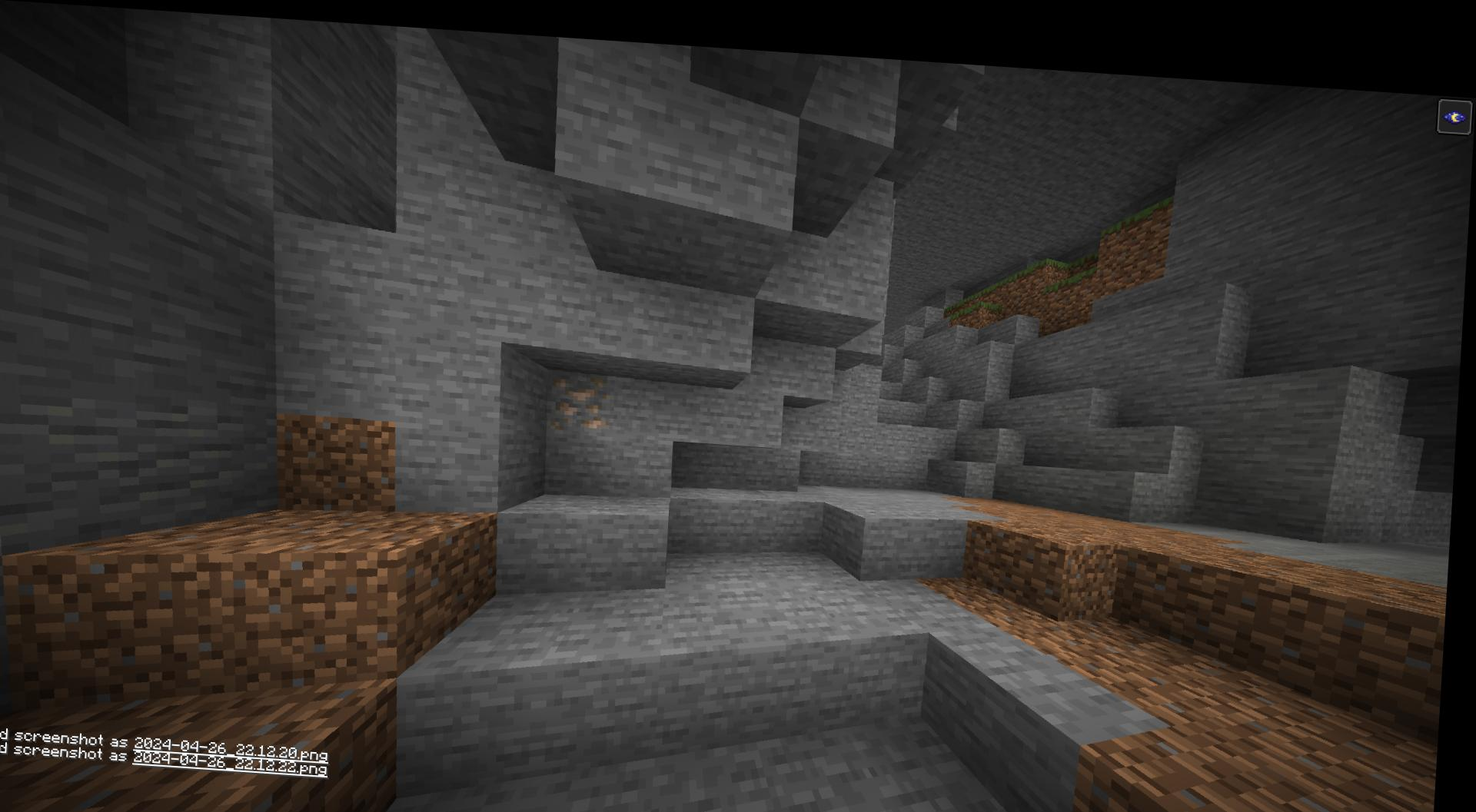iron ore: (551, 365, 610, 427)
